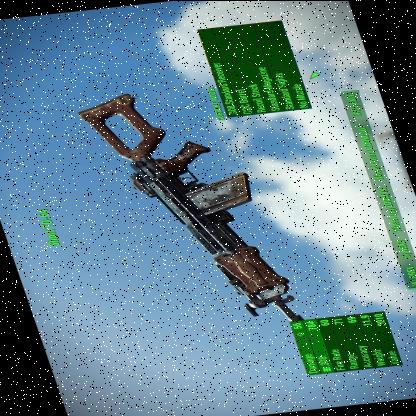rifle: (66, 81, 310, 347)
